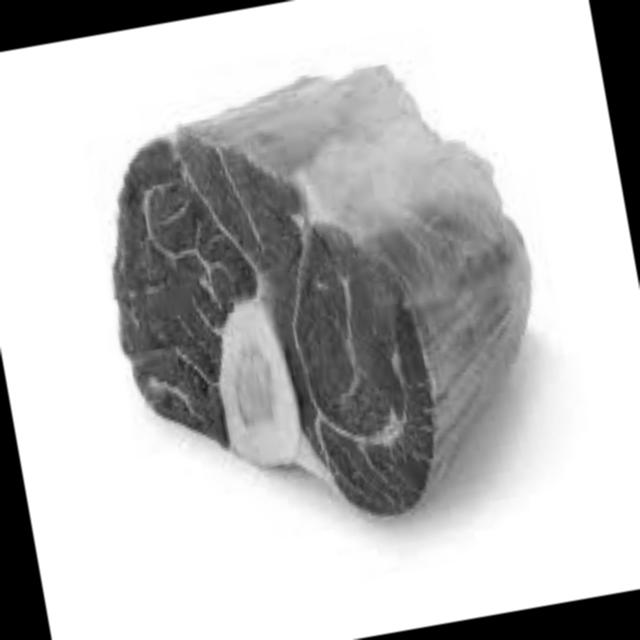chan gio: (73, 52, 568, 551)
